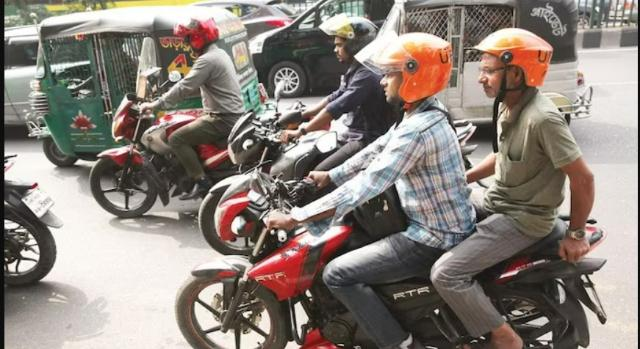motorcycle: (175, 30, 614, 349), (191, 12, 462, 253), (90, 11, 288, 216)
withHelmet: (470, 32, 554, 110), (375, 32, 452, 110), (318, 16, 375, 53), (171, 13, 224, 50)
